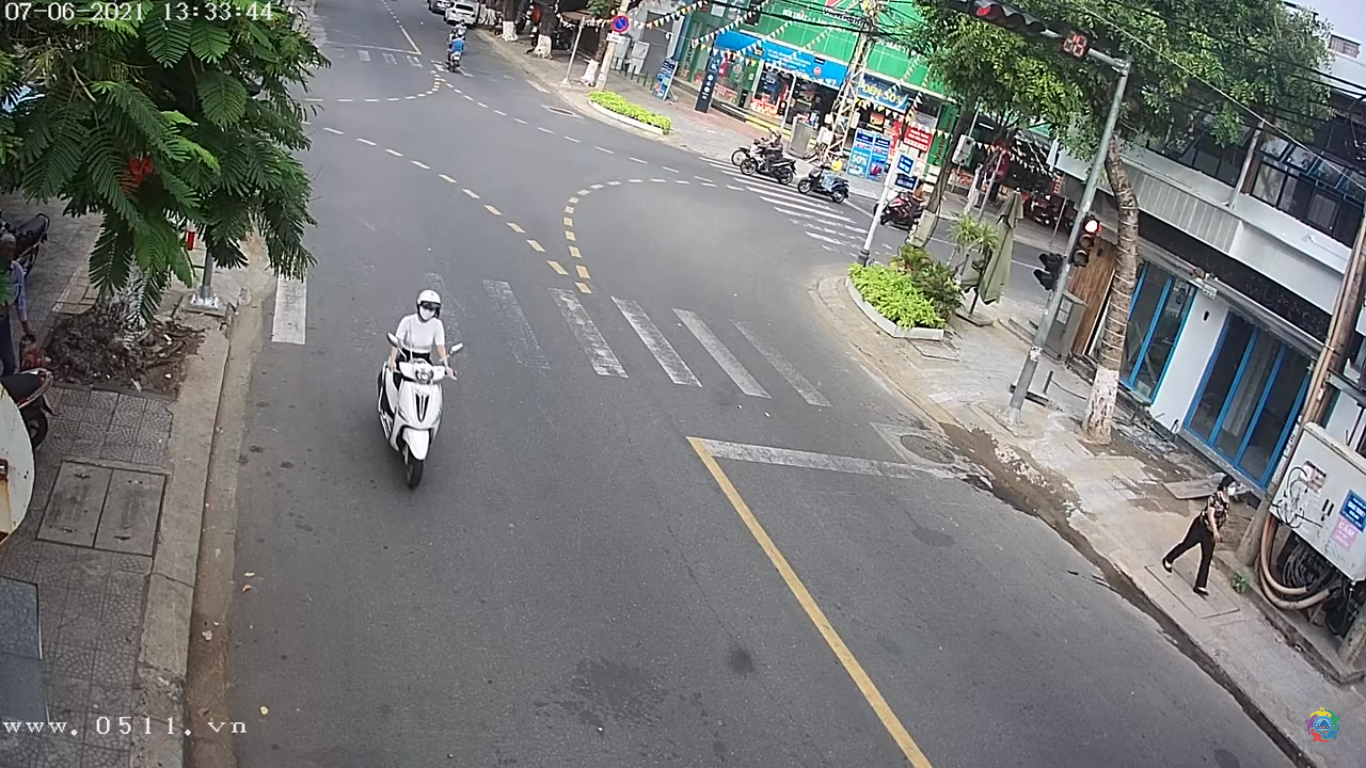motorbike: (374, 312, 458, 488)
